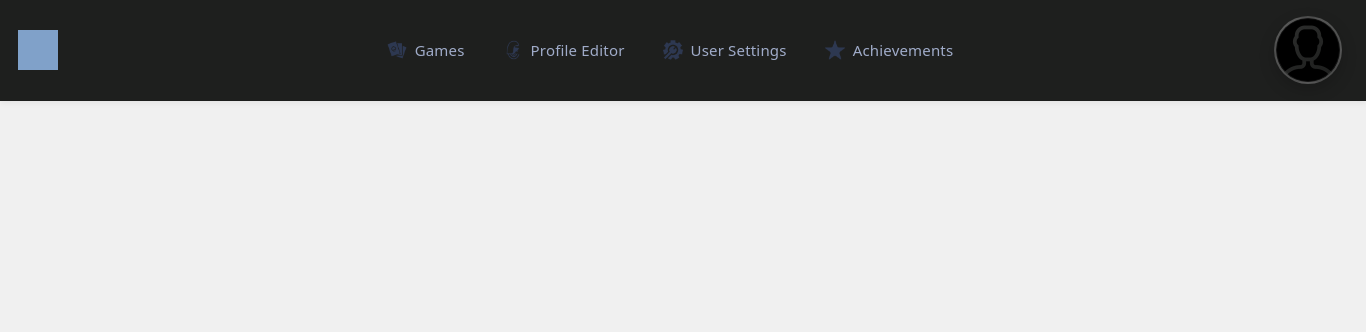
Scenario: Menu - integration › opens popup and reacts to theme listener update
expect the element with test id "menu-container" is shown: met, box [0, 0, 1365, 101]
Click the element with test id "avatar-container". click: (1308, 50)
box: [1268, 10, 1348, 90]
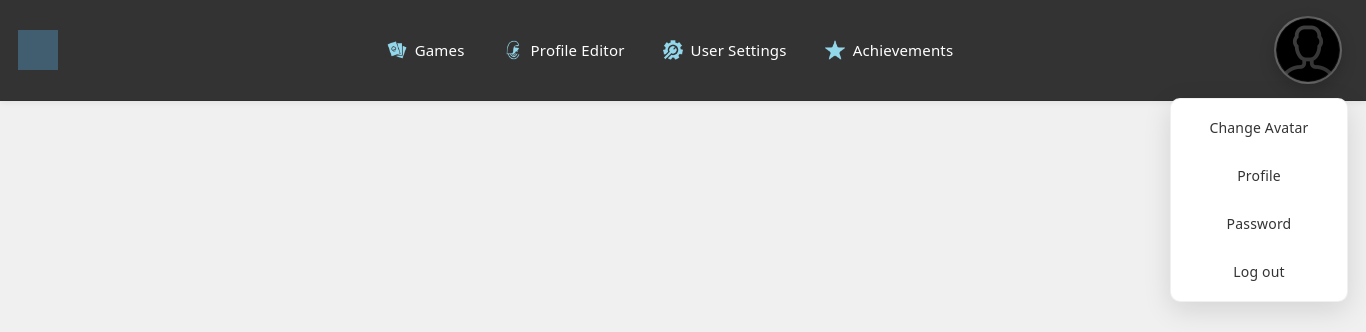
expect the text "Change Avatar" is shown: met, box [1209, 118, 1308, 137]
